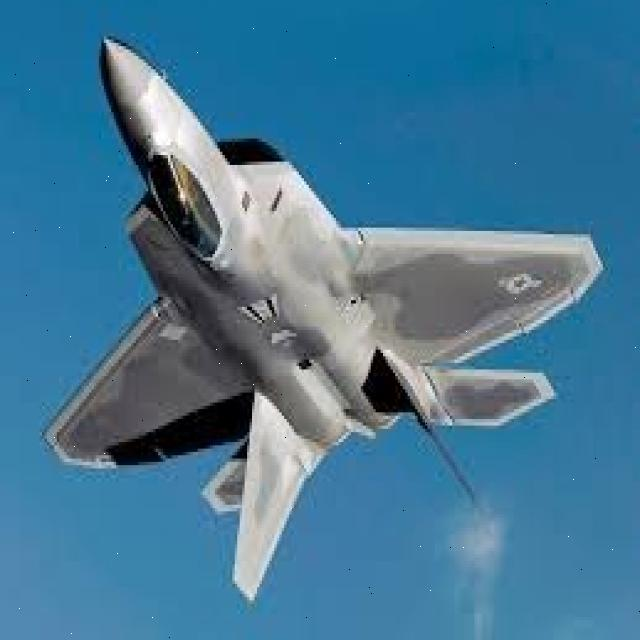F22: (33, 0, 613, 617)
